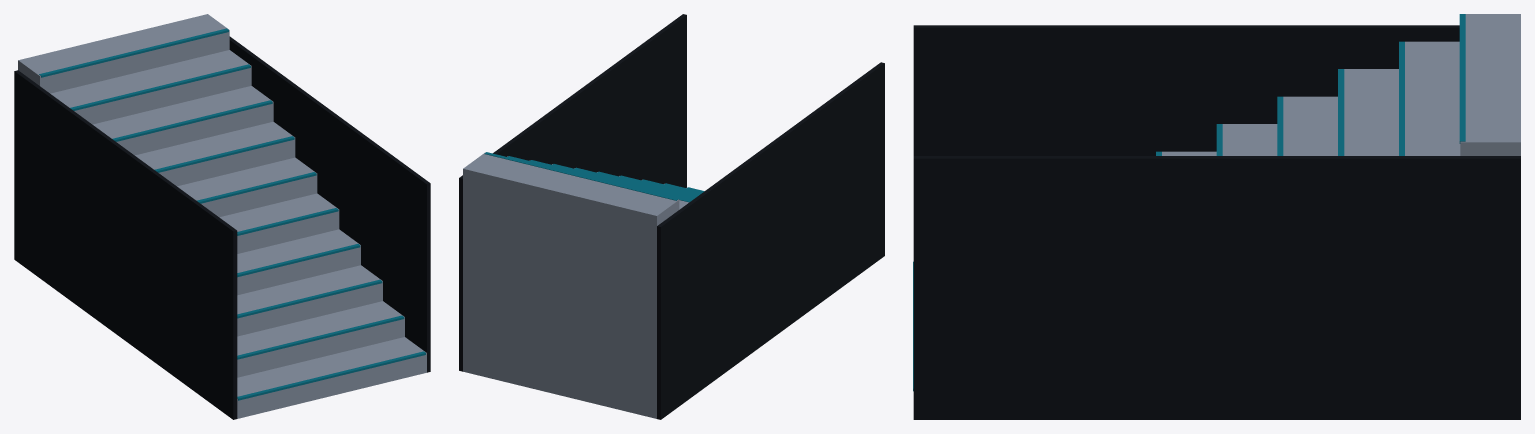
File: SM_Stairs_2x4_Rise2.glb
The picture shows the model from 3 angles, left to right: view 1: azimuth 30°, elevation 25°; view 2: azimuth 150°, elevation 25°; view 3: azimuth 270°, elevation 25°; orthographic projection. The views are drawn at different scales.
Parts seen in each view (by area): view 1: SM_Stairs_2x4_Rise2-col; view 2: SM_Stairs_2x4_Rise2-col; view 3: SM_Stairs_2x4_Rise2-col.
Boxes of the visible parts, left/top/right/bottom form: SM_Stairs_2x4_Rise2-col: left=14, top=14, right=430, bottom=419; SM_Stairs_2x4_Rise2-col: left=459, top=14, right=884, bottom=419; SM_Stairs_2x4_Rise2-col: left=913, top=14, right=1520, bottom=419.
Bounding box in the file's own units: 2.08 × 2 × 4.
